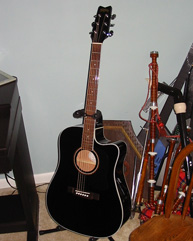guitar: (45, 4, 132, 238)
